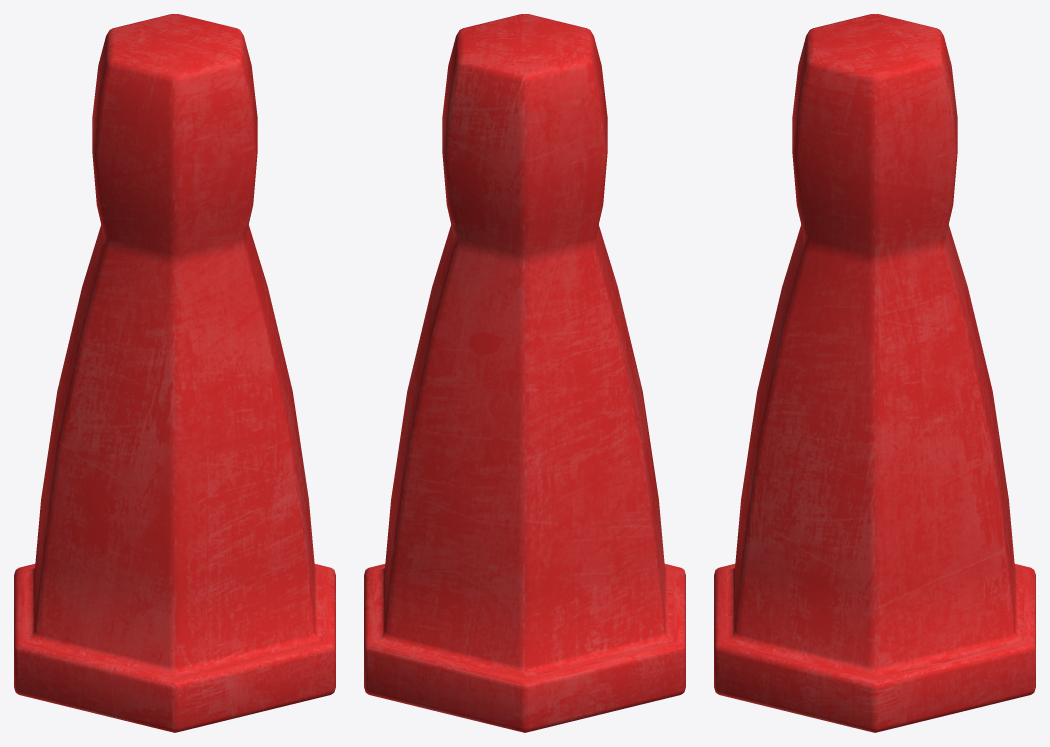
File: Player.glb
3 renders of one model, left to right at view 1: azimuth 30°, elevation 25°; view 2: azimuth 150°, elevation 25°; view 3: azimuth 270°, elevation 25°, orthographic.
Parts seen in each view (by area): view 1: Player; view 2: Player; view 3: Player.
Boxes of the visible parts, x1=… form: Player: x1=14, y1=14, x2=335, y2=732; Player: x1=364, y1=14, x2=685, y2=732; Player: x1=714, y1=14, x2=1035, y2=732.
Bounding box in the file's own units: 0.4557 × 0.8359 × 0.3974.
Materials: 1 (1 with a texture image).
